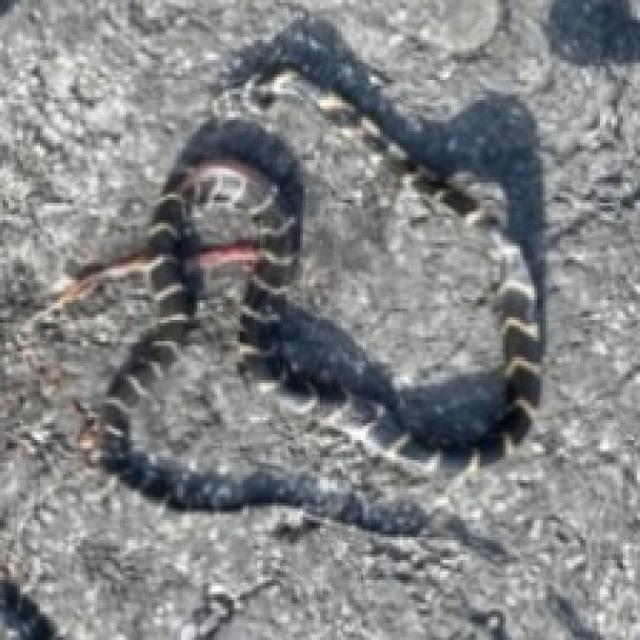king cobra: (97, 117, 537, 560), (223, 17, 543, 357)
